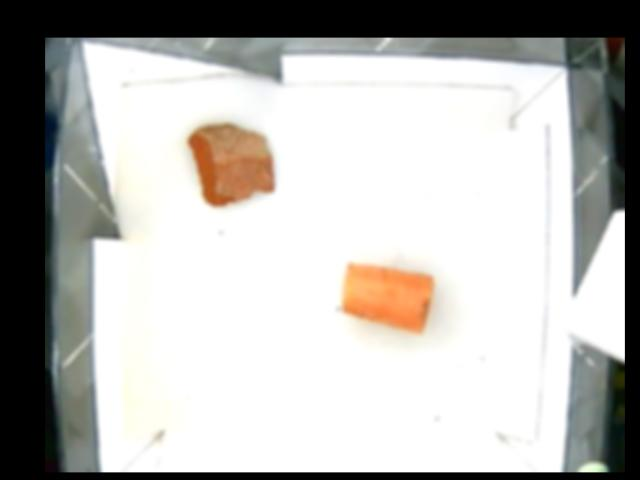Brisk: (187, 121, 274, 206)
Carrot: (341, 262, 432, 332)
